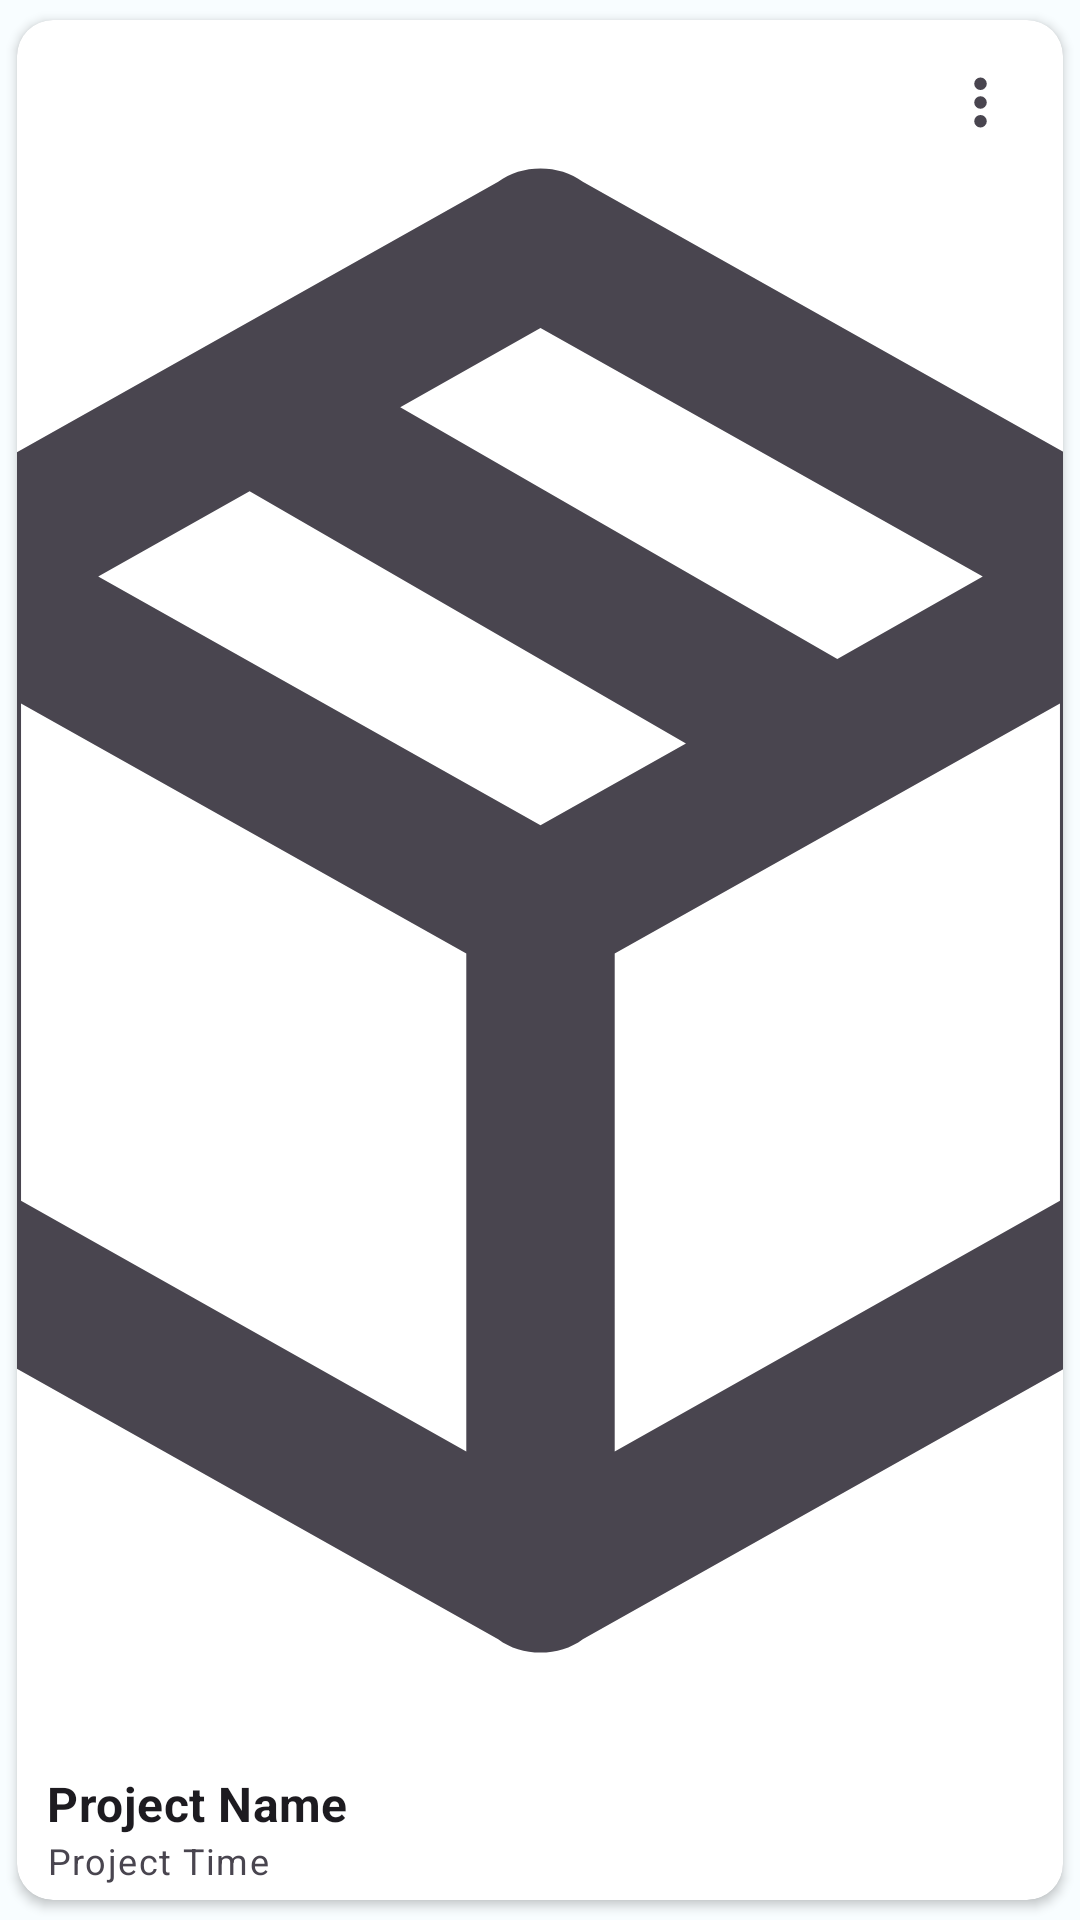

Icons on this 1080x1920 Android screen, each with the point to tap as [x,y]:
dots vertical: [980,102]
